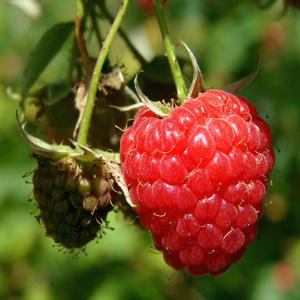raspb: (116, 82, 273, 287)
